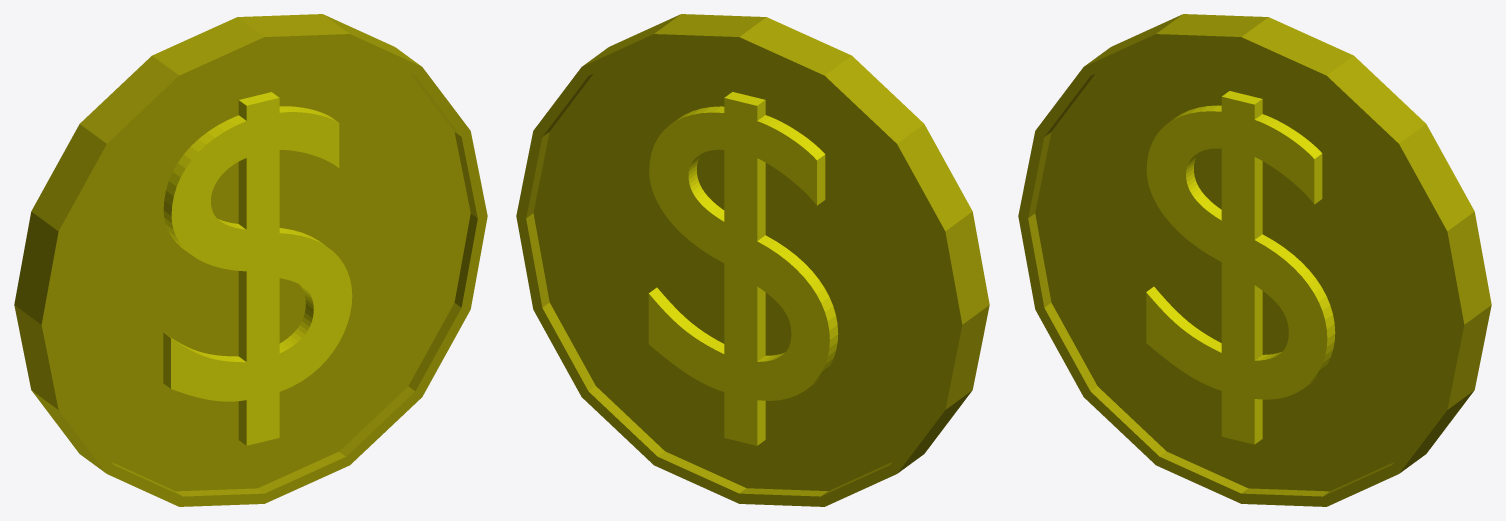
File: Coin.fbx
The picture shows the model from 3 angles, left to right: view 1: azimuth 30°, elevation 25°; view 2: azimuth 150°, elevation 25°; view 3: azimuth 330°, elevation 25°; orthographic projection.
Parts seen in each view (by area): view 1: Text; view 2: Text; view 3: Text.
Boxes of the visible parts, x1,y1,x2,y2 form: Text: (14, 14, 487, 506); Text: (516, 14, 989, 506); Text: (1018, 14, 1491, 506).
Size of the model in its own units: 2 by 2 by 0.226.
